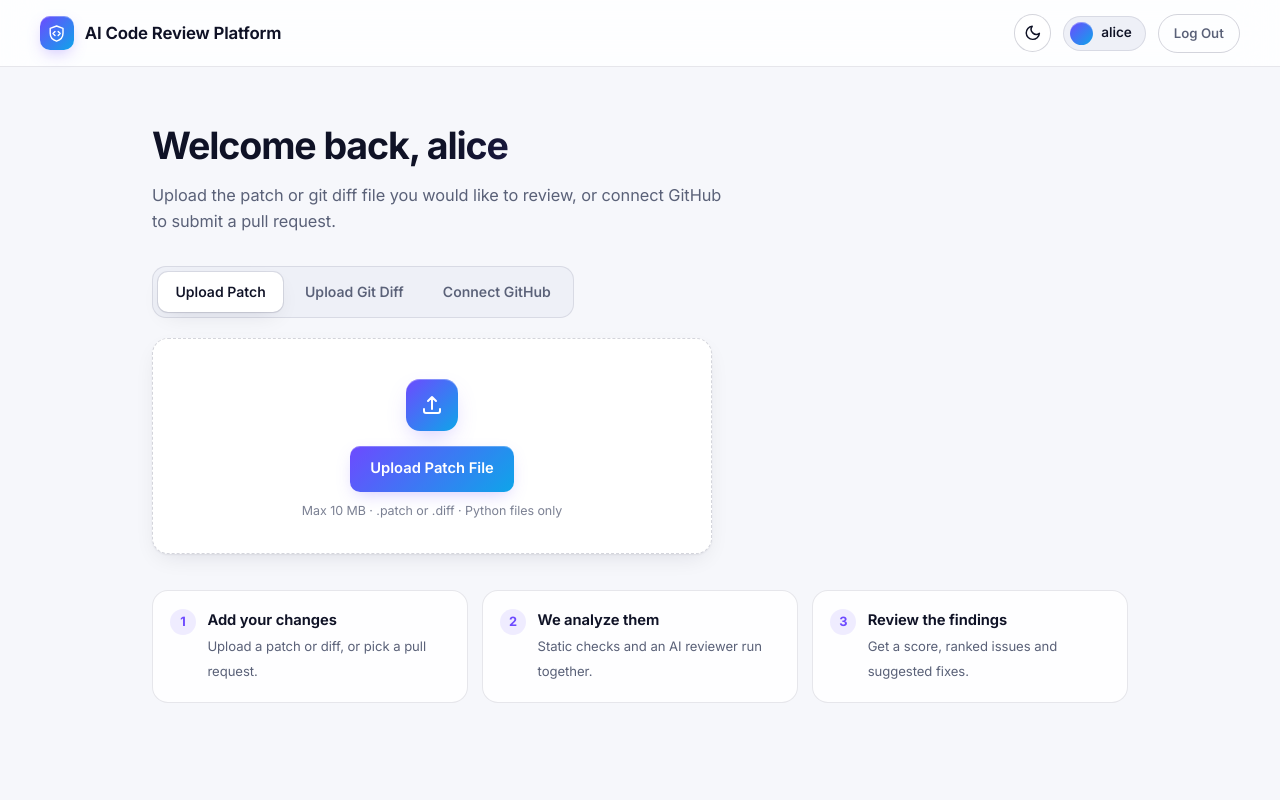
Dashboard GitHub panel › lists pull requests once a repo is selected, and submits the chosen PR
Click the tab "Connect GitHub" at point(497, 292), box [425,272,568,312]
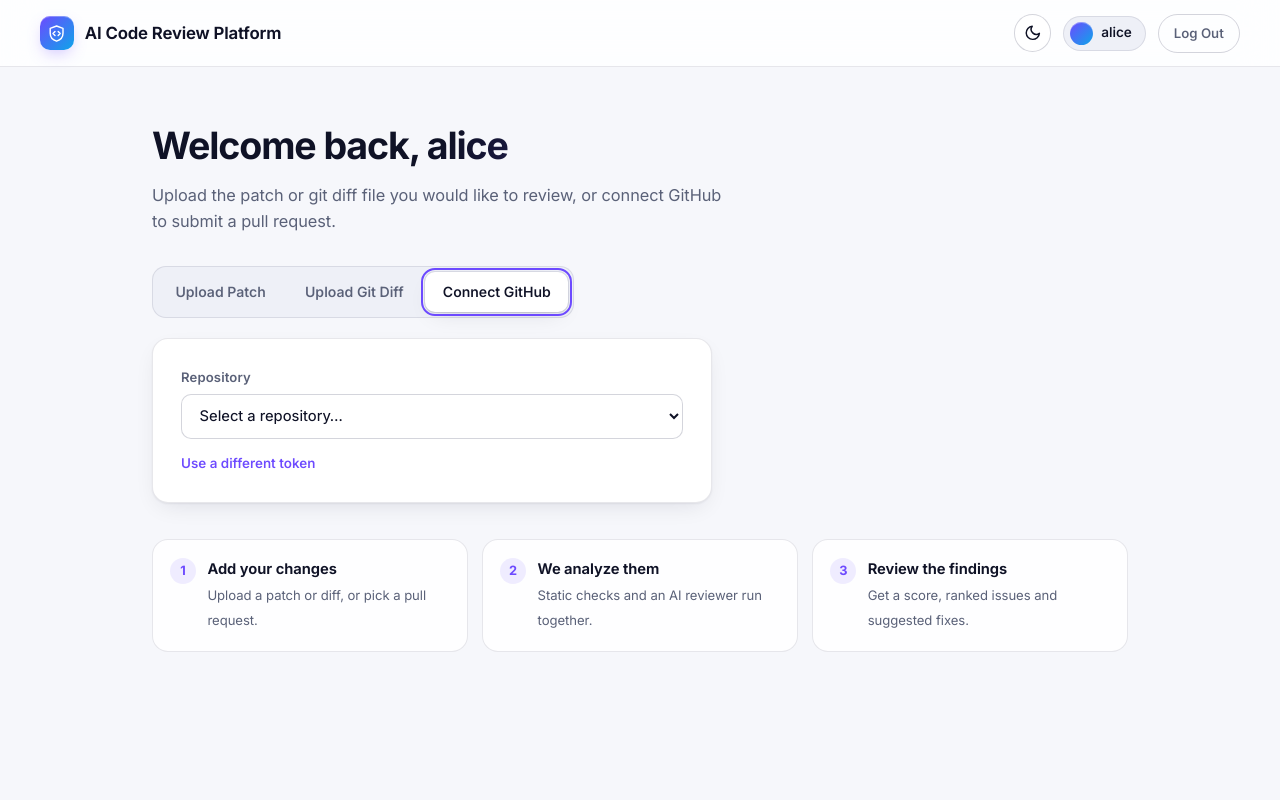
Select "alice/project" in the dropdown labelled "Repository" at point(432, 416), box [181,394,683,439]
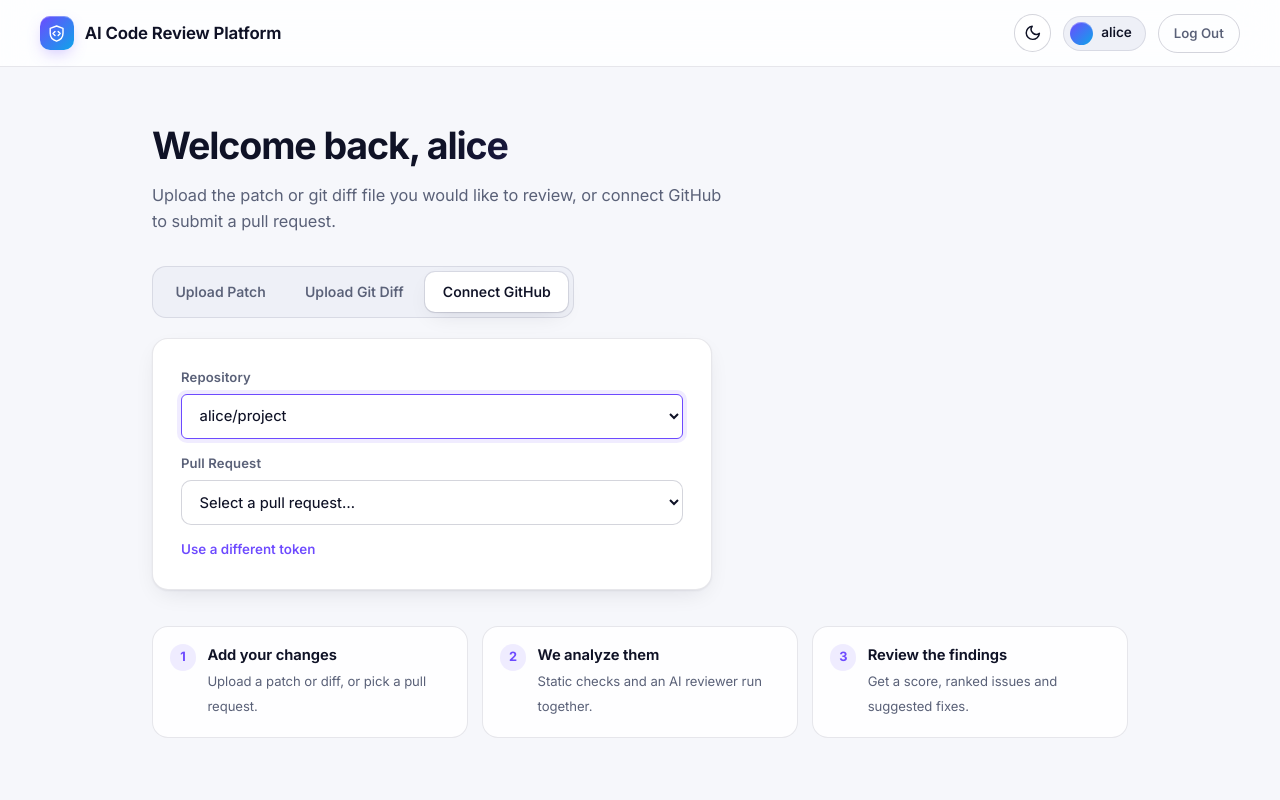
Select "#42 Fix bug" in the dropdown labelled "Pull Request" at point(432, 502), box [181,480,683,525]
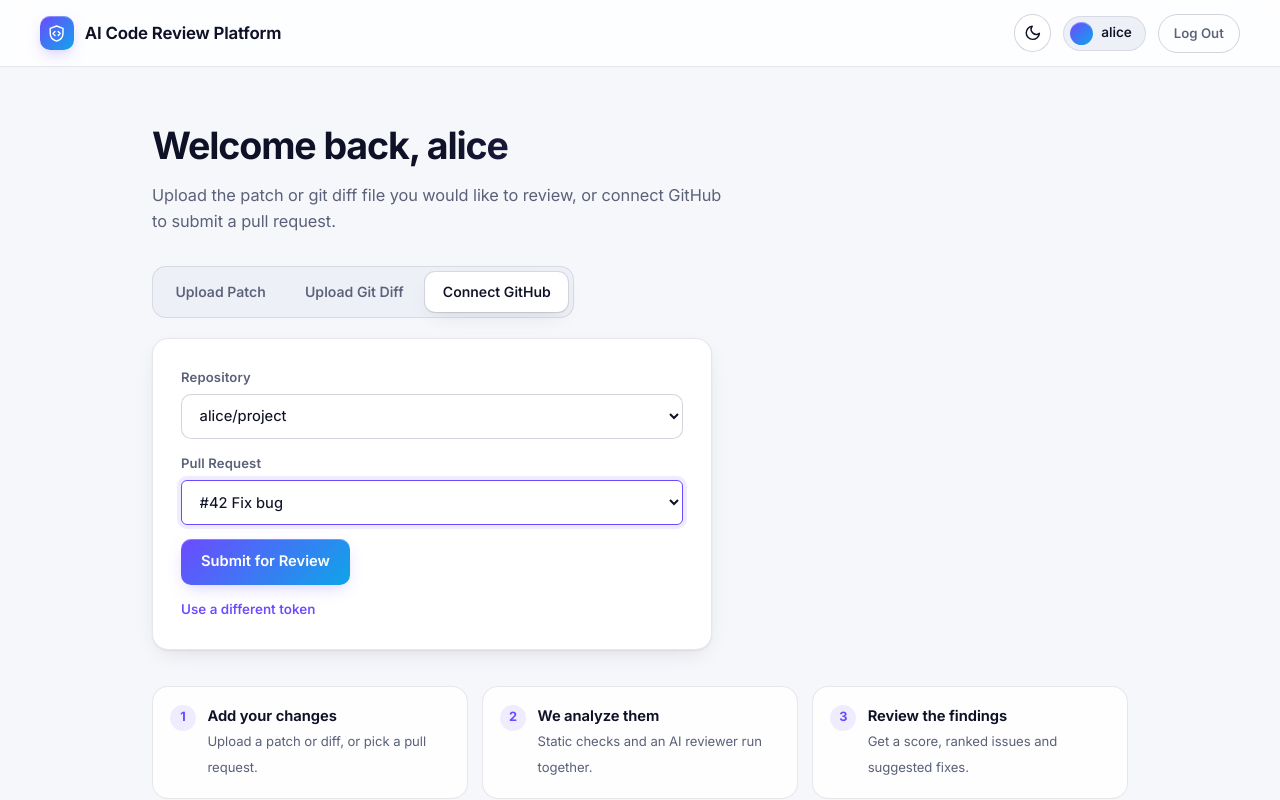
Click the button "Submit for Review" at point(265, 562), box [181,539,350,585]
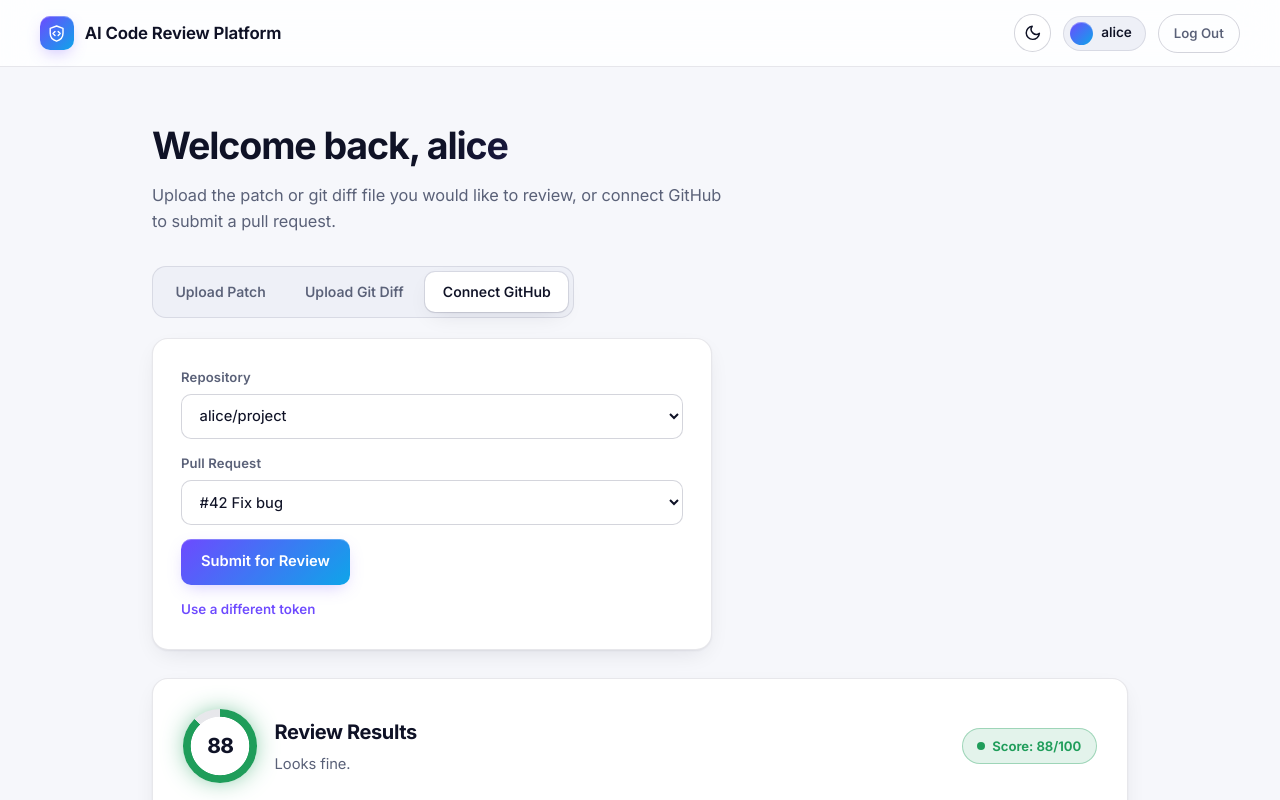
Result: the text "Score: 88/100" is shown at [962,728,1097,764]
